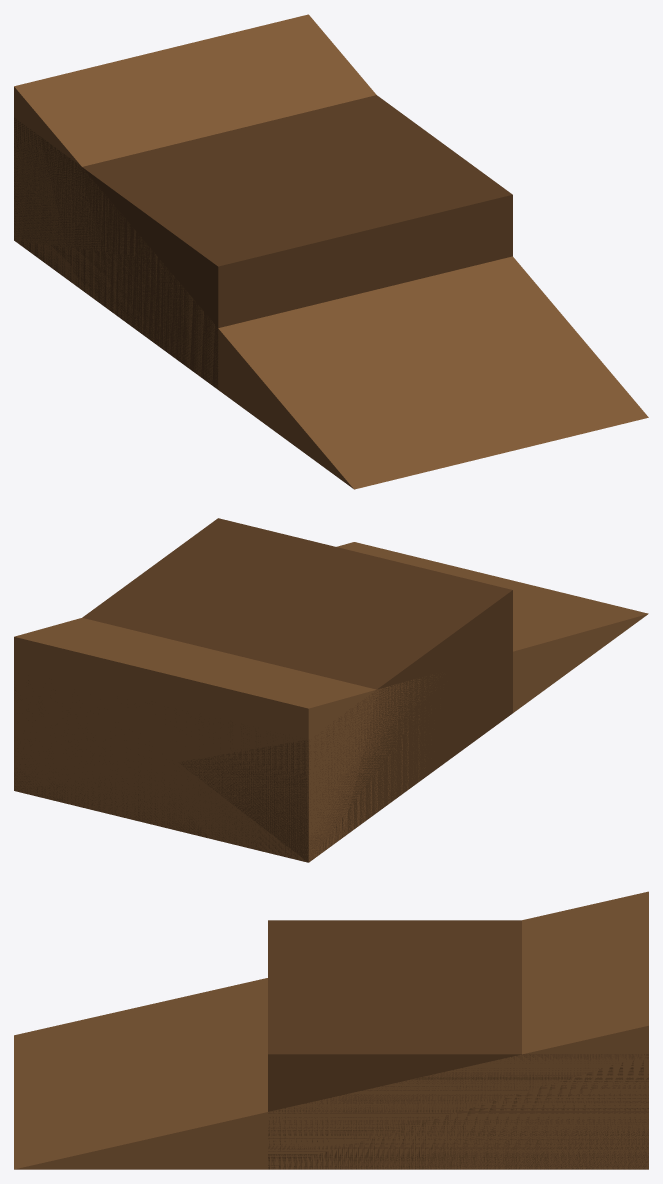
Rendered from good_10.glb.
3 renders of one model, top to bottom at view 1: azimuth 30°, elevation 25°; view 2: azimuth 150°, elevation 25°; view 3: azimuth 270°, elevation 25°, orthographic. The views are drawn at different scales.
Parts seen in each view (by area): view 1: good_10; view 2: good_10; view 3: good_10.
Part boxes in pixels (x1,y1,x2,y2): good_10: (14,14,648,489); good_10: (14,518,648,862); good_10: (14,891,648,1169).
Size of the model in its own units: 0.1 by 0.05 by 0.2.
